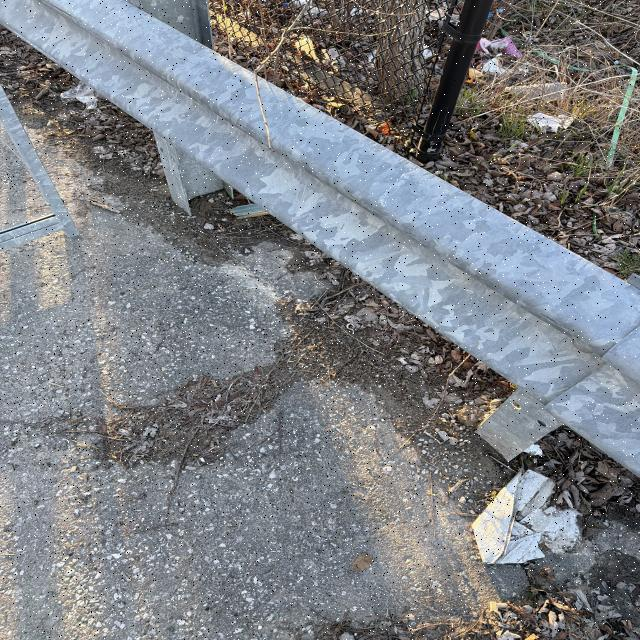Guard rail: (2, 21, 615, 422)
